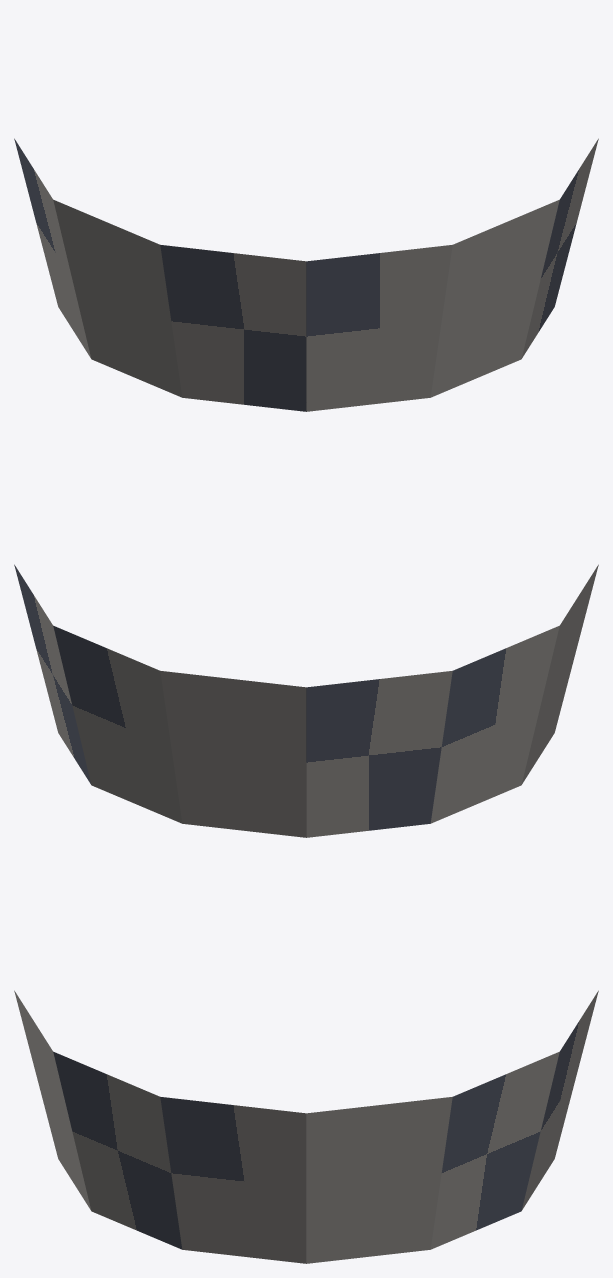
Rendered from net2.glb.
The picture shows the model from 3 angles, top to bottom: view 1: azimuth 30°, elevation 25°; view 2: azimuth 150°, elevation 25°; view 3: azimuth 270°, elevation 25°; orthographic projection.
Parts seen in each view (by area): view 1: Net2; view 2: Net2; view 3: Net2.
Boxes of the visible parts, left/top/right/bottom form: Net2: left=14, top=138, right=598, bottom=411; Net2: left=14, top=564, right=598, bottom=837; Net2: left=14, top=990, right=598, bottom=1263.
Size of the model in its own units: 0.5066 by 0.1617 by 0.5066.
Materials: 1 (1 with a texture image).
